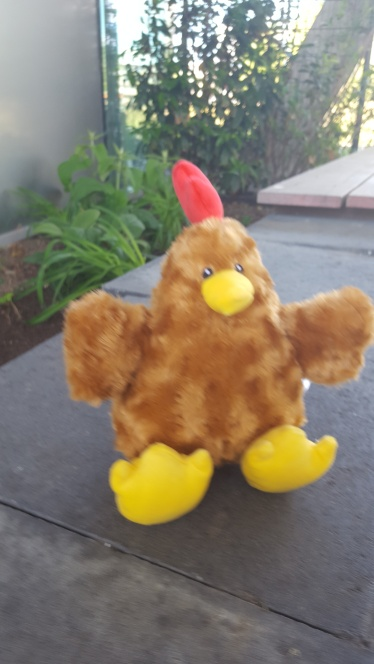chicken_front: (61, 158, 373, 524)
